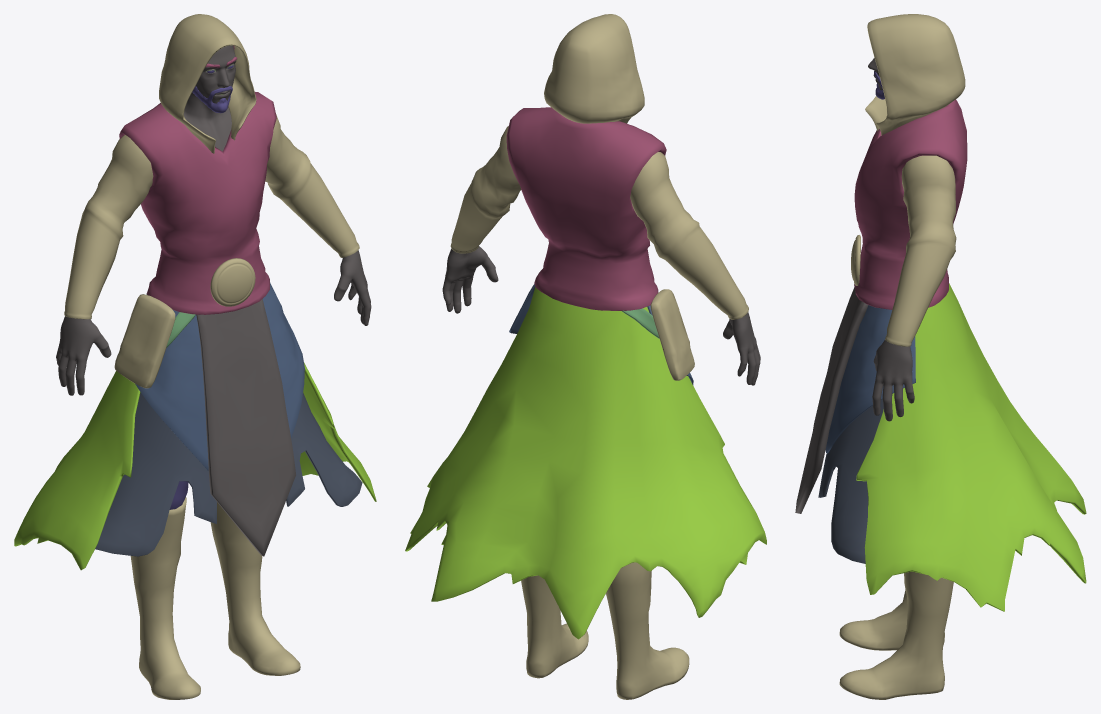
File: wizard_Model.fbx
3 views of the same model, side by side, from view 1: azimuth 30°, elevation 25°; view 2: azimuth 150°, elevation 25°; view 3: azimuth 270°, elevation 25° (orthographic).
Parts seen in each view (by area): view 1: combined_Low, combined2_Low, combined3_Low, kiltBack_Low, kiltSides2_Low, kiltSides1_Low, polySurface2; view 2: kiltBack_Low, combined_Low, combined3_Low, combined2_Low; view 3: kiltBack_Low, combined_Low, combined3_Low, combined2_Low, kiltSides2_Low, kiltSides1_Low.
Part boxes in pixels (x1=…): combined_Low: x1=64, y1=14, x2=359, y2=699; combined2_Low: x1=56, y1=45, x2=371, y2=556; combined3_Low: x1=119, y1=45, x2=276, y2=314; kiltBack_Low: x1=14, y1=362, x2=376, y2=570; kiltSides2_Low: x1=95, y1=392, x2=362, y2=556; kiltSides1_Low: x1=135, y1=282, x2=304, y2=471; polySurface2: x1=169, y1=86, x2=232, y2=509; kiltBack_Low: x1=405, y1=287, x2=766, y2=639; combined_Low: x1=450, y1=14, x2=748, y2=699; combined3_Low: x1=506, y1=107, x2=666, y2=310; combined2_Low: x1=442, y1=246, x2=760, y2=385; kiltBack_Low: x1=856, y1=283, x2=1086, y2=611; combined_Low: x1=839, y1=14, x2=965, y2=699; combined3_Low: x1=854, y1=99, x2=967, y2=309; combined2_Low: x1=795, y1=58, x2=914, y2=513; kiltSides2_Low: x1=818, y1=399, x2=883, y2=563; kiltSides1_Low: x1=825, y1=305, x2=915, y2=453.
Bounding box in the file's own units: 45.1 × 89.16 × 36.09.
